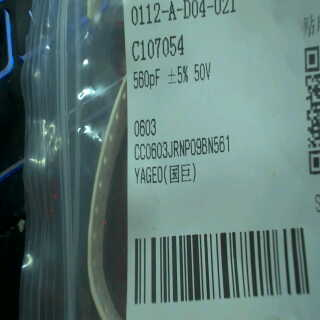560pF: (130, 67, 162, 95)
